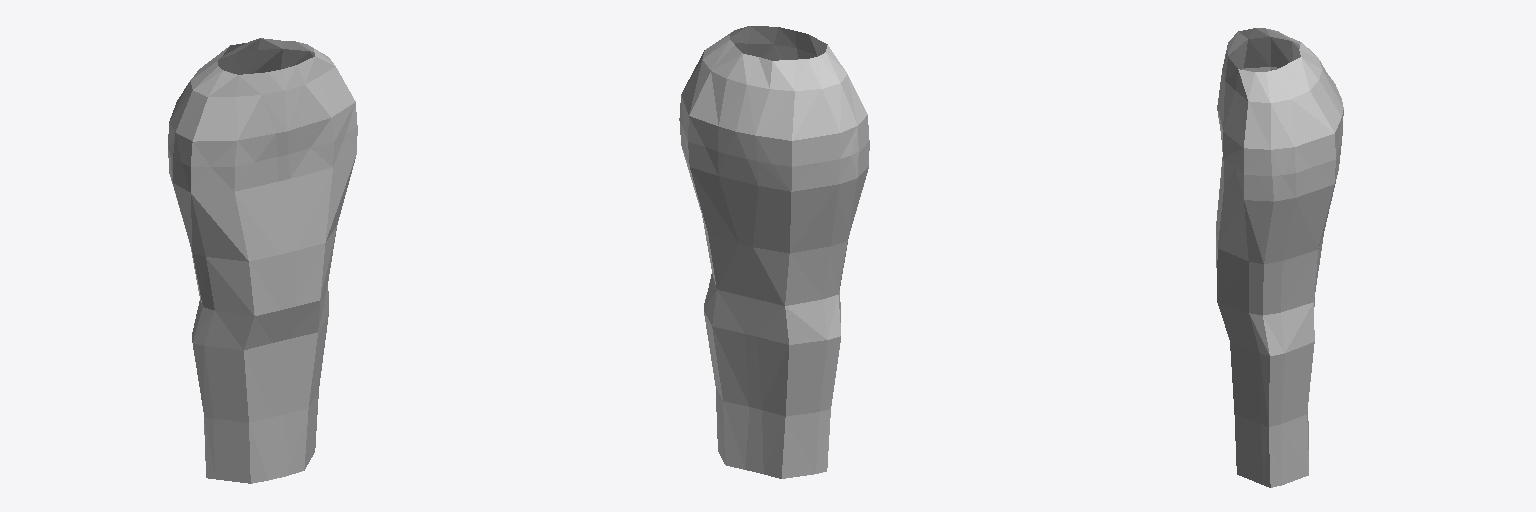
File: avatar_skirt-skirt_saddlebags.obj
3 views of the same model, side by side, from view 1: azimuth 30°, elevation 25°; view 2: azimuth 150°, elevation 25°; view 3: azimuth 270°, elevation 25° (orthographic).
Parts seen in each view (by area): view 1: g1_avatar_skirt; view 2: g1_avatar_skirt; view 3: g1_avatar_skirt.
Part boxes in pixels (x1,y1,x2,y2): g1_avatar_skirt: (168,38,357,483); g1_avatar_skirt: (679,26,869,478); g1_avatar_skirt: (1216,28,1343,487).
Size of the model in its own units: 0.4948 by 1.12 by 0.3148.